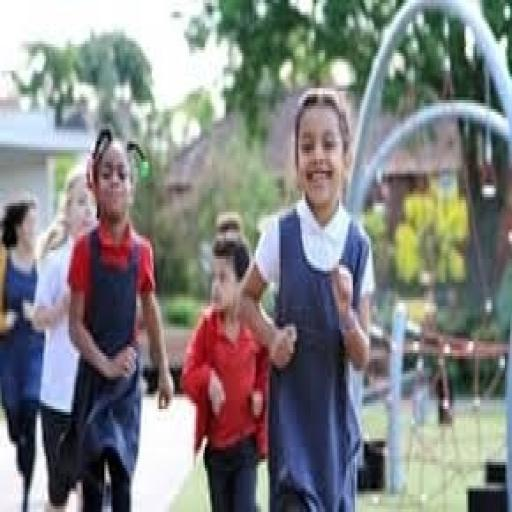running: (236, 85, 378, 509), (60, 127, 177, 509), (180, 230, 274, 509), (0, 191, 48, 509)
